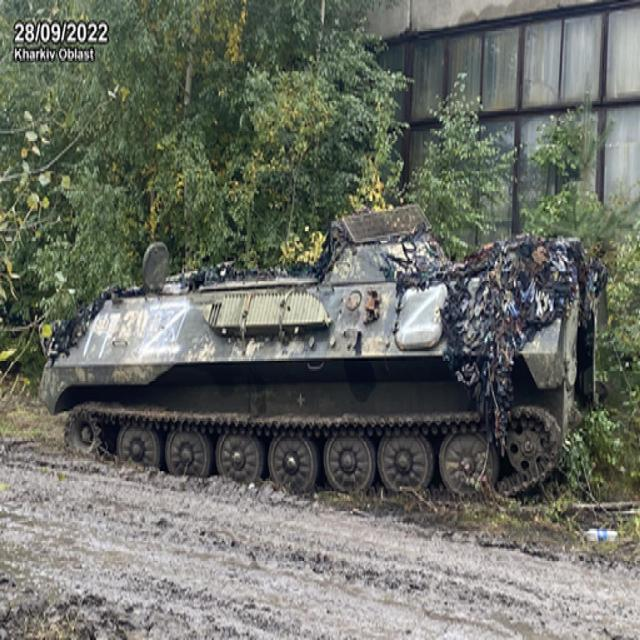APC-IFV: (41, 202, 598, 531)
